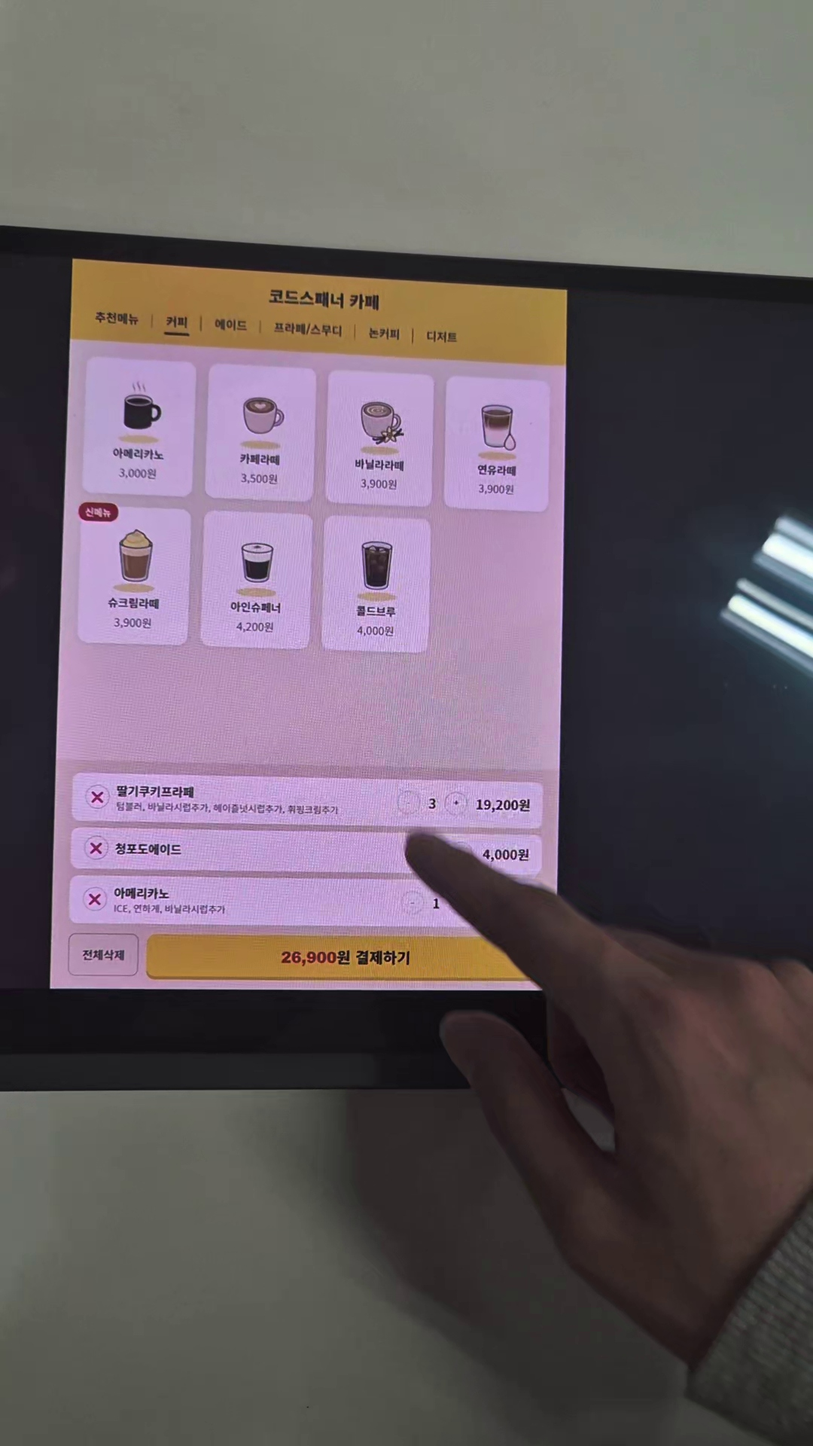action_button: (146, 935, 535, 981), (68, 934, 138, 975)
cart_item: (73, 773, 544, 829), (70, 875, 540, 925), (71, 828, 542, 875)
category_tab: (273, 320, 344, 338), (94, 309, 140, 326), (367, 325, 402, 342), (425, 328, 459, 345), (213, 317, 249, 333), (165, 314, 189, 329)
menu_back: (78, 503, 191, 645), (201, 511, 314, 649), (84, 358, 196, 497), (321, 515, 432, 653), (206, 365, 316, 502), (326, 370, 433, 507), (444, 376, 550, 512)
menu_name: (111, 445, 166, 462), (352, 458, 406, 472), (107, 596, 160, 610), (230, 600, 281, 614), (355, 605, 397, 619), (476, 463, 517, 477), (238, 453, 282, 466)
menu_price: (115, 466, 158, 482), (111, 616, 153, 630), (476, 482, 516, 496), (356, 624, 396, 638), (360, 477, 398, 491), (240, 472, 279, 485), (235, 621, 275, 633)
